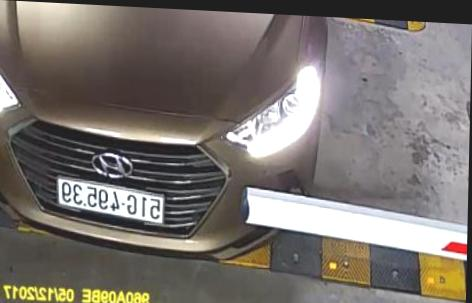License_Plate: (55, 176, 173, 222)
